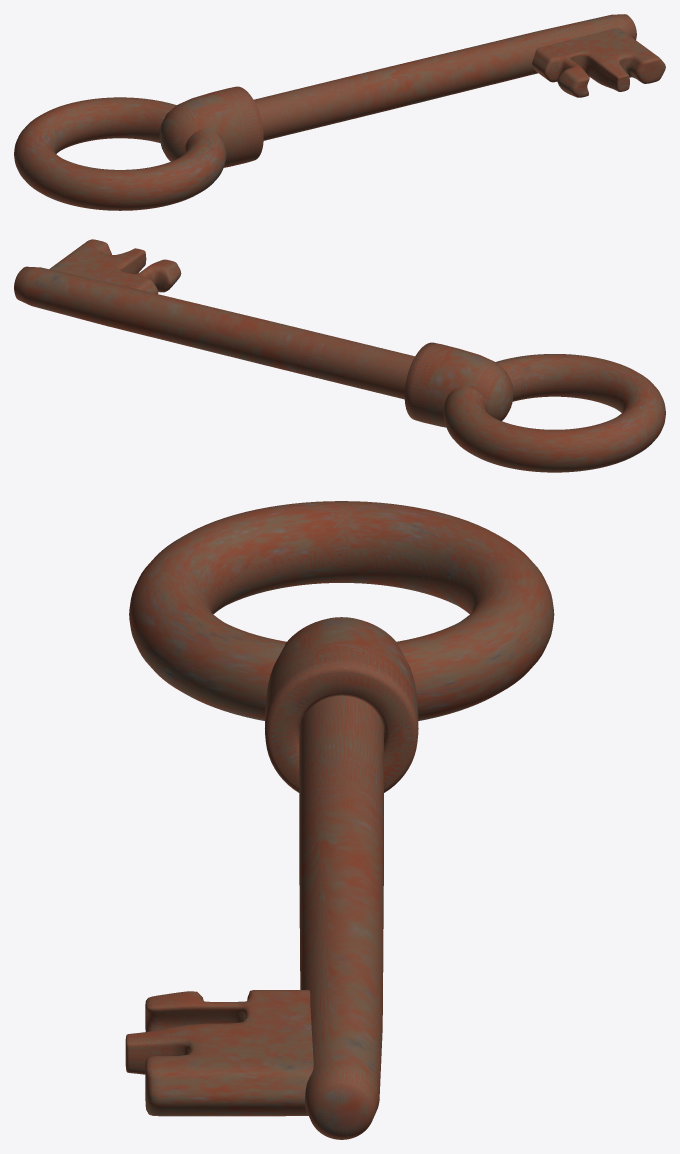
Rendered from RustyKey.fbx.
The picture shows the model from 3 angles, top to bottom: view 1: azimuth 30°, elevation 25°; view 2: azimuth 150°, elevation 25°; view 3: azimuth 270°, elevation 25°; orthographic projection. The views are drawn at different scales.
Parts seen in each view (by area): view 1: Cylinder, Torus, Cube; view 2: Cylinder, Torus, Cube; view 3: Torus, Cylinder, Cube.
Boxes of the visible parts, x1,y1,x2,y2 form: Cylinder: (159,14,636,167); Torus: (14,97,226,210); Cube: (532,28,665,97); Cylinder: (14,266,513,427); Torus: (443,354,665,472); Cube: (49,239,181,293); Torus: (129,501,554,720); Cylinder: (265,617,418,1139); Cube: (125,990,313,1116).
Bounding box in the file's own units: 327 × 35.99 × 100.
Materials: 1 (1 with a texture image).
